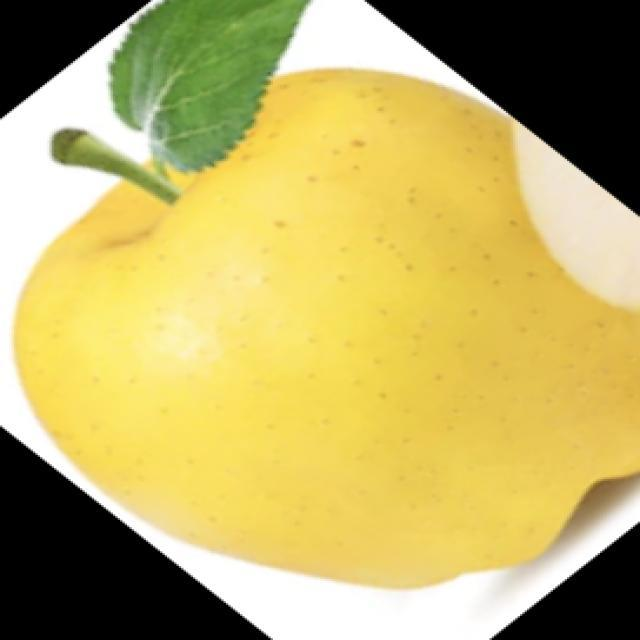Fresh Apple: (13, 60, 517, 568)
